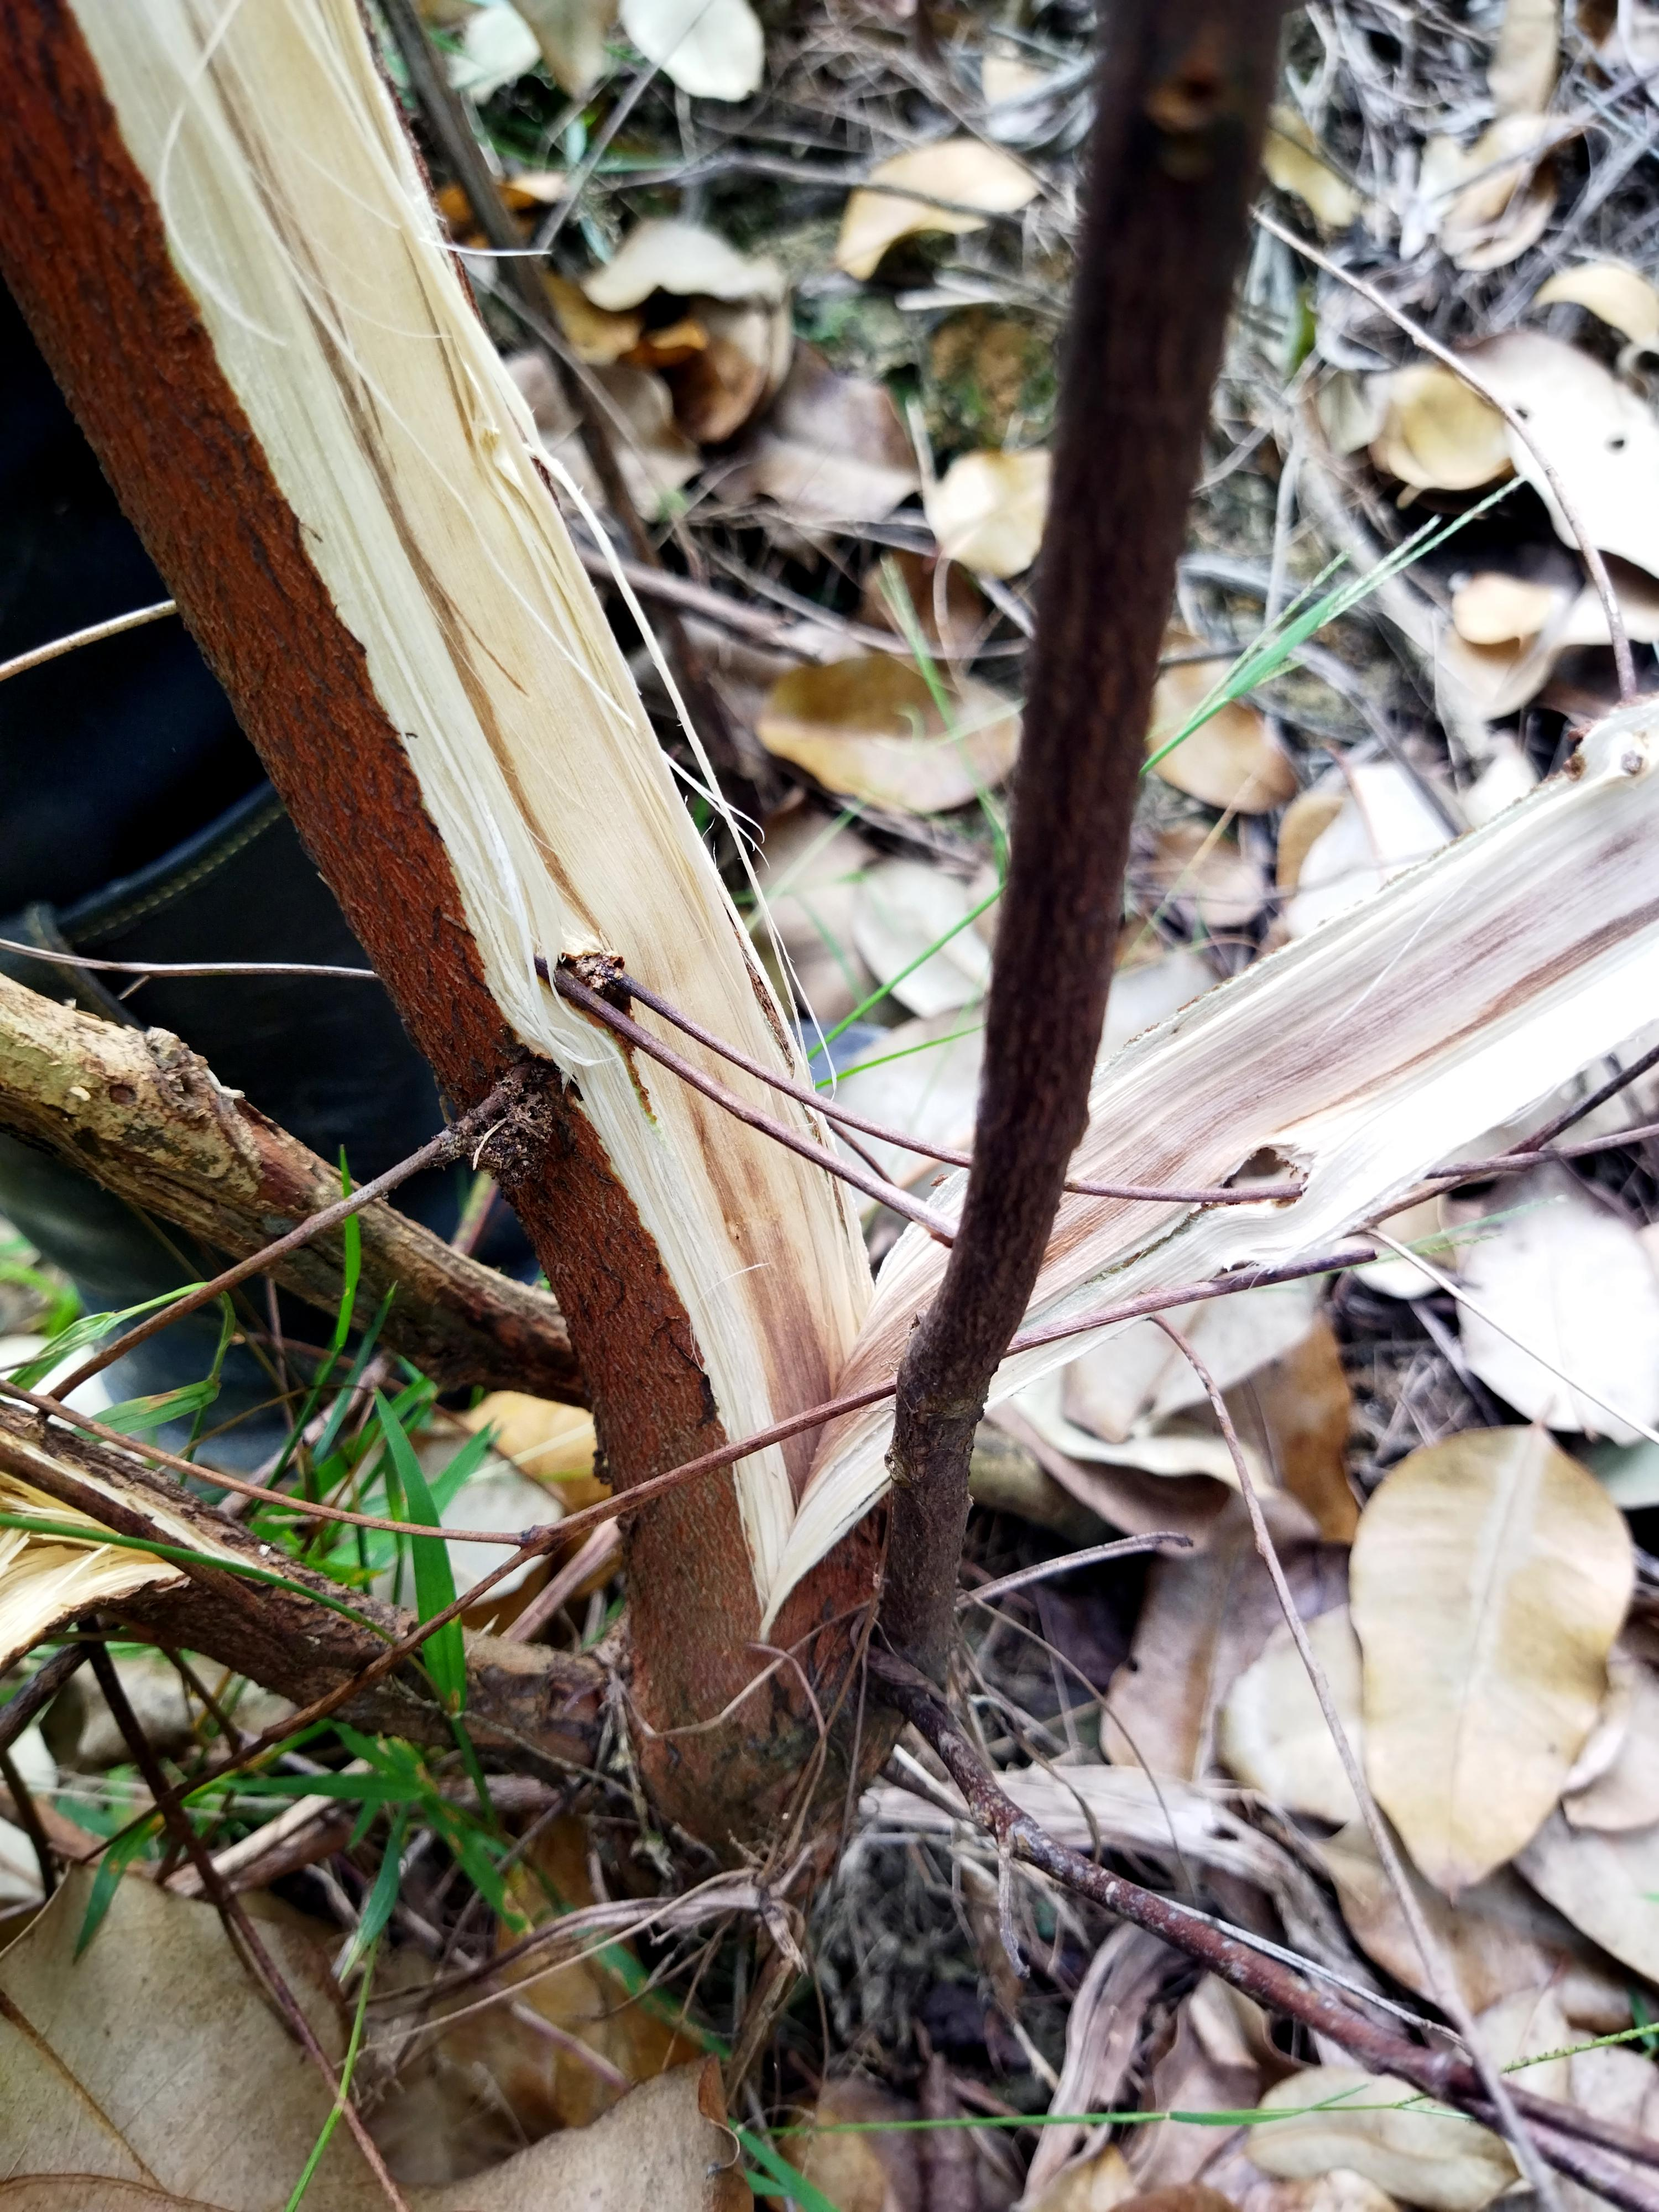Ralstonia: (681, 1075, 1006, 1477)
